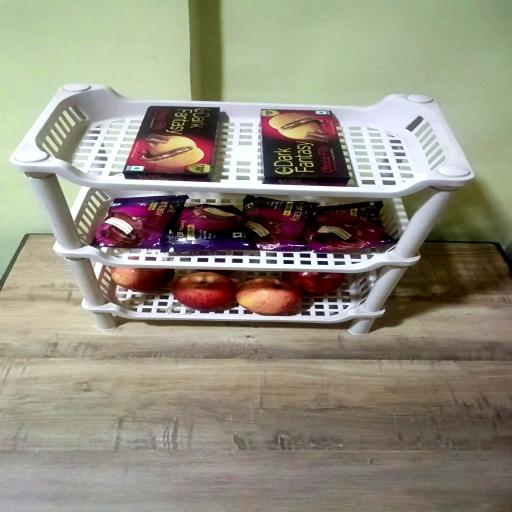Apple: (236, 277, 302, 315), (172, 272, 236, 310), (111, 267, 174, 292), (282, 272, 344, 295)
Choco Fills: (123, 105, 220, 181), (261, 109, 349, 186)
Choco Pie: (92, 195, 188, 250), (307, 201, 397, 251), (243, 195, 318, 251), (167, 204, 250, 253)
